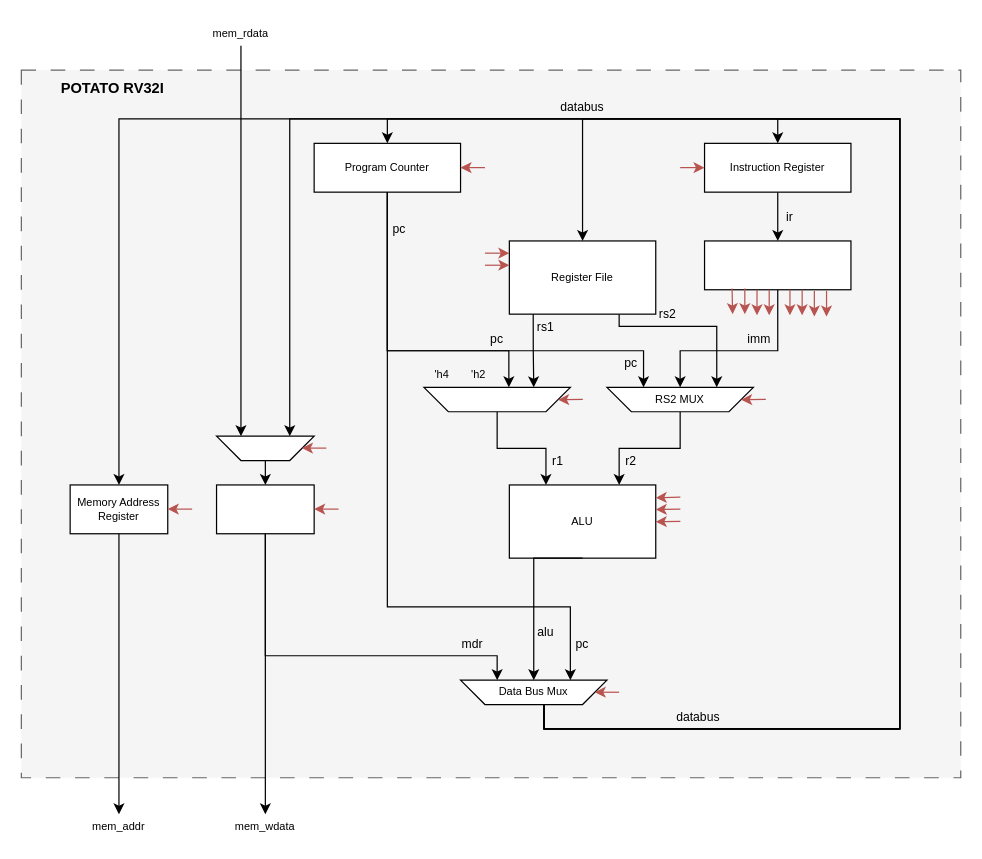
This 982x859 diagram has some shape labels left out. Here are the shapes that lost their labels. From the top down, the centre of each, then its label:
point (777, 265): Control
point (496, 399): RS1 MUX
point (264, 448): MDR MUX
point (264, 509): Memory Data Register
